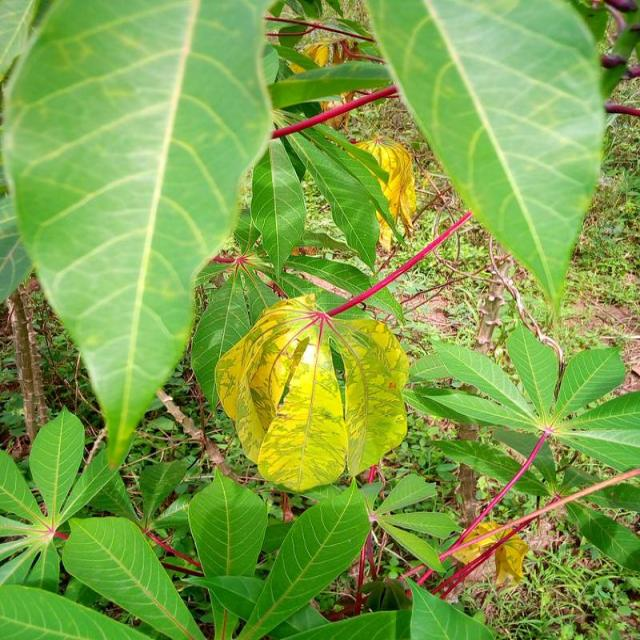cassava leaf: (1, 0, 276, 469), (364, 0, 607, 318), (212, 291, 410, 492)
